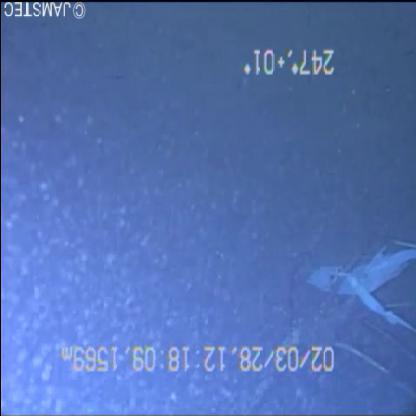Rác: (306, 209, 415, 374)
